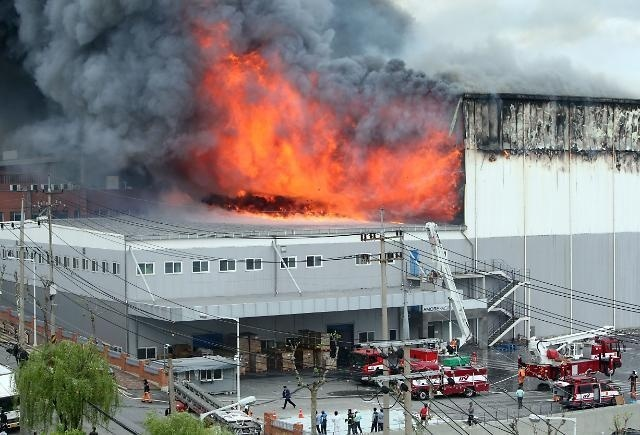fire: (204, 46, 456, 219)
